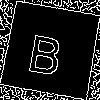B: (25, 25, 67, 76)
